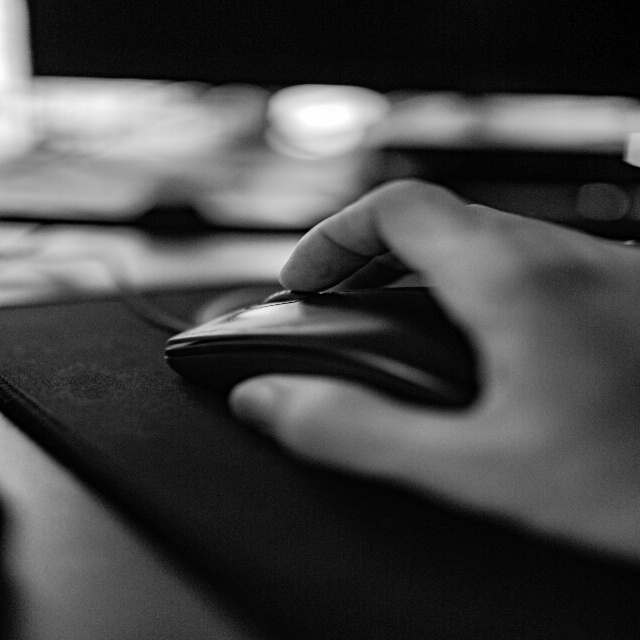Sin_guantes: (229, 178, 640, 563)
